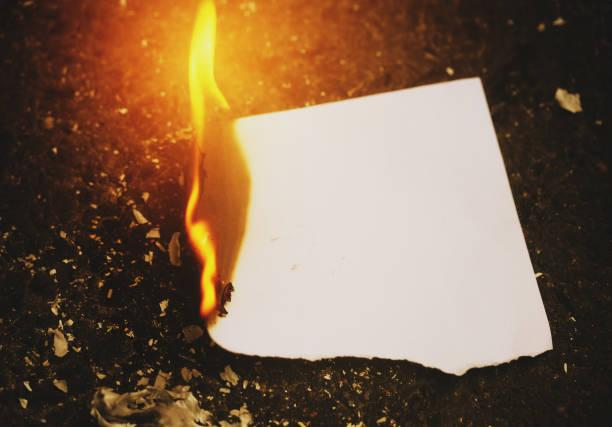Fire: (169, 0, 258, 328)
